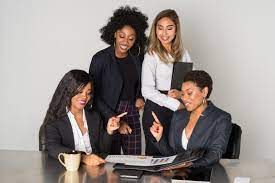no-gloves: (104, 112, 128, 133), (148, 112, 164, 140), (84, 153, 107, 167), (136, 98, 146, 110)
